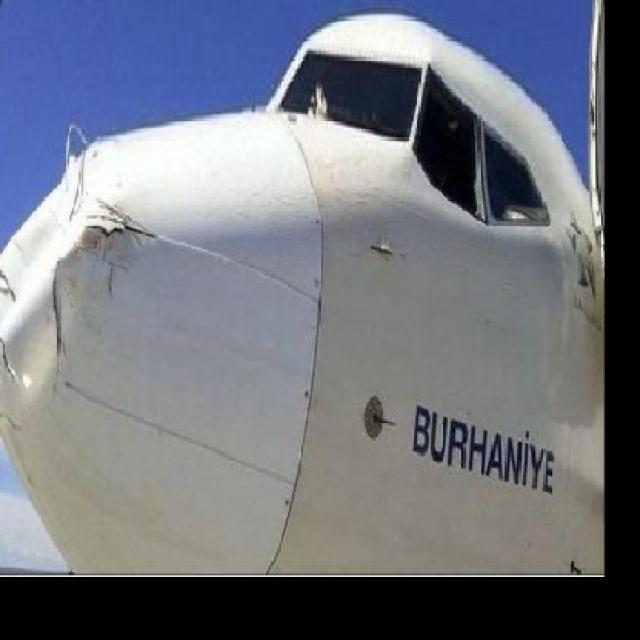dent: (3, 109, 148, 308)
